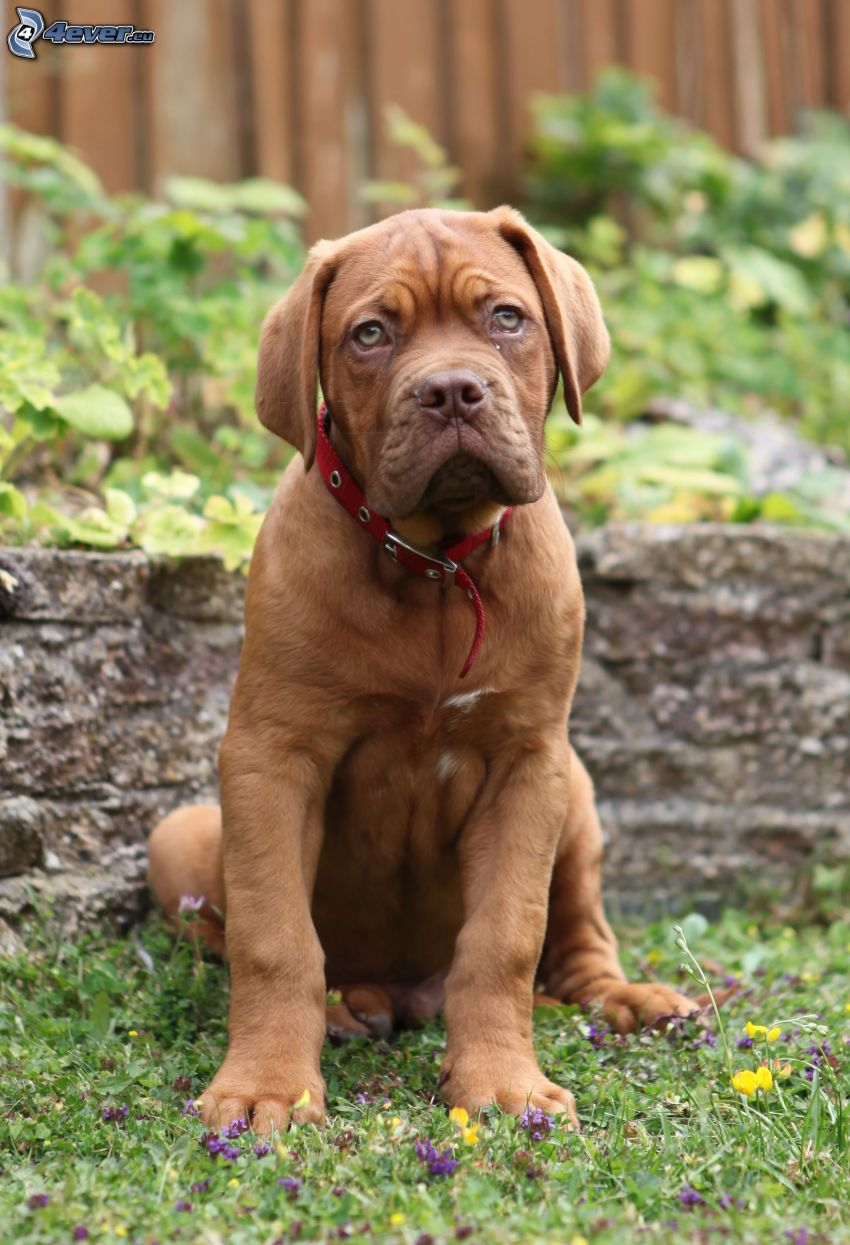dogue_de_bordeaux: (145, 203, 697, 1142)
